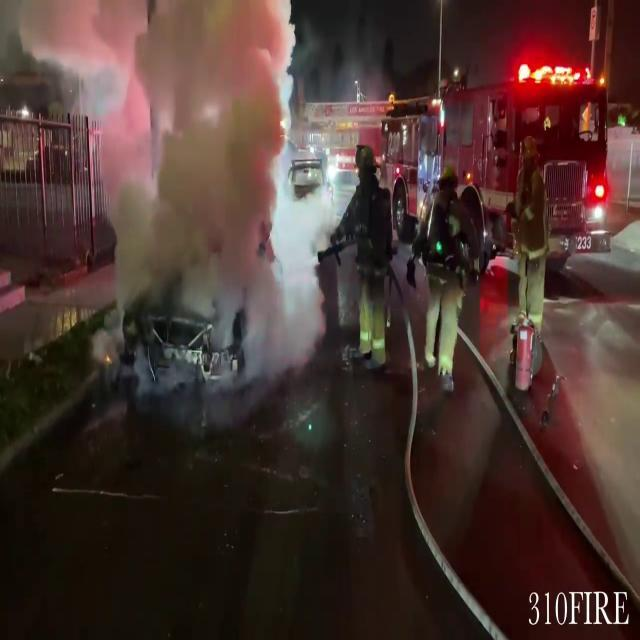Smoke: (99, 0, 323, 376)
